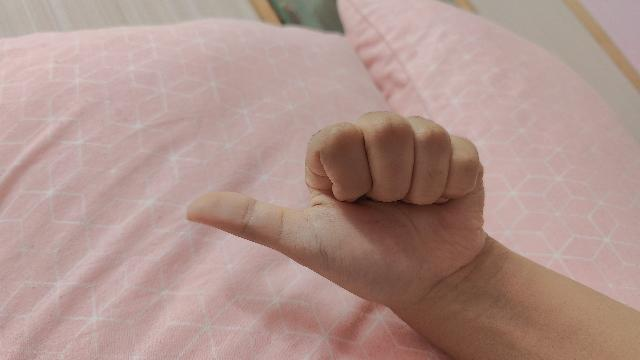shikhar: (184, 112, 640, 360)
